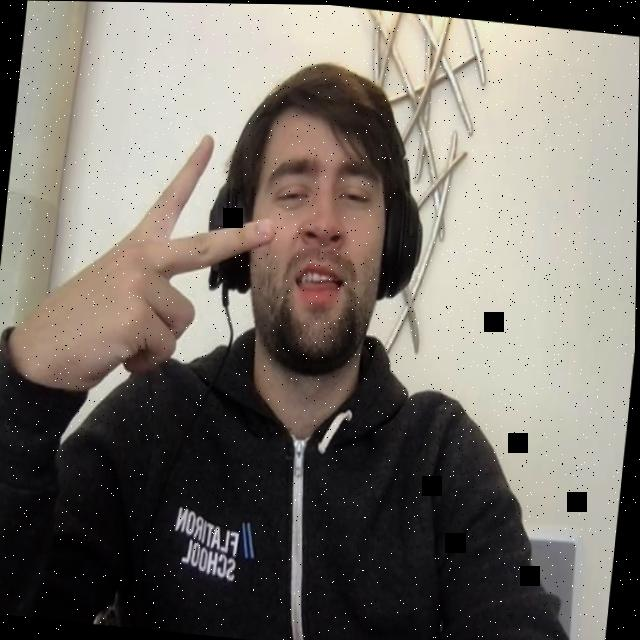Scissors: (22, 107, 294, 408)
